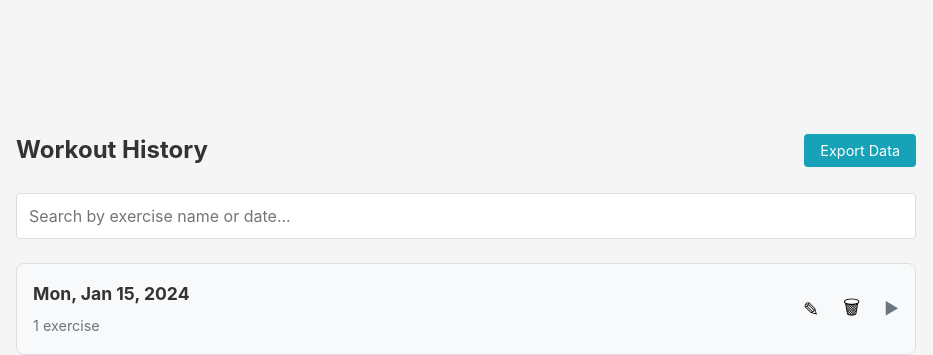
it: WorkoutHistory › expanding workouts › should display exercises in a table when expanded
The image size is (933, 355).
(page scrolled)
What coordinates should you click on to do the following:
click the element with class "workout-header"
I would click on:
 (466, 309)
Its box is [17,264,915,354].
(page scrolled)
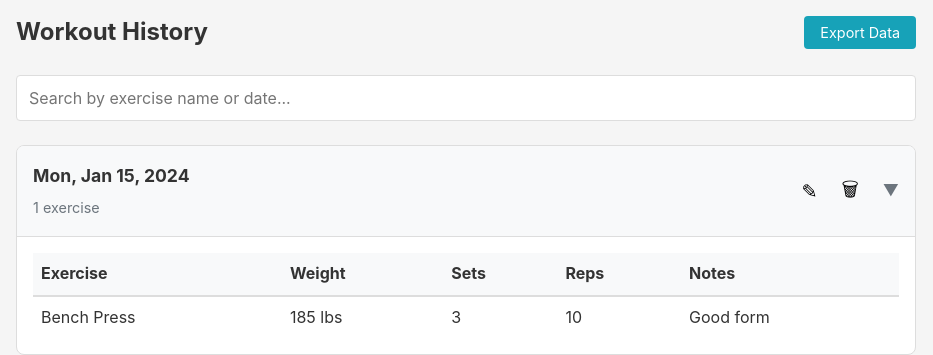
Check: the table with class "exercises-table" is shown, box [33,253,899,338]
Check: the row "Bench Press 185 lbs 3 10 Good form" is shown, box [33,296,899,338]
